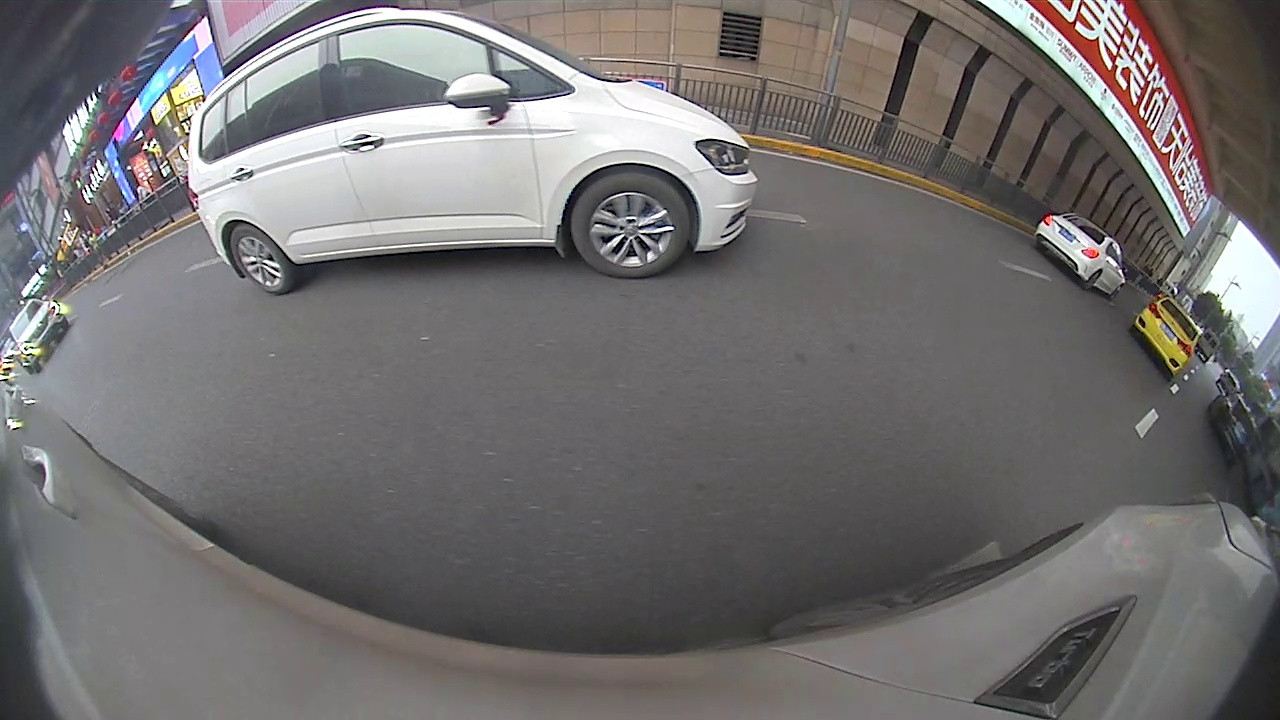car: (185, 5, 759, 296), (1033, 211, 1130, 299), (1130, 298, 1205, 381), (9, 297, 70, 361), (1207, 391, 1258, 461)
front: (567, 168, 692, 280)
rear: (225, 222, 289, 296), (1084, 270, 1103, 292)
